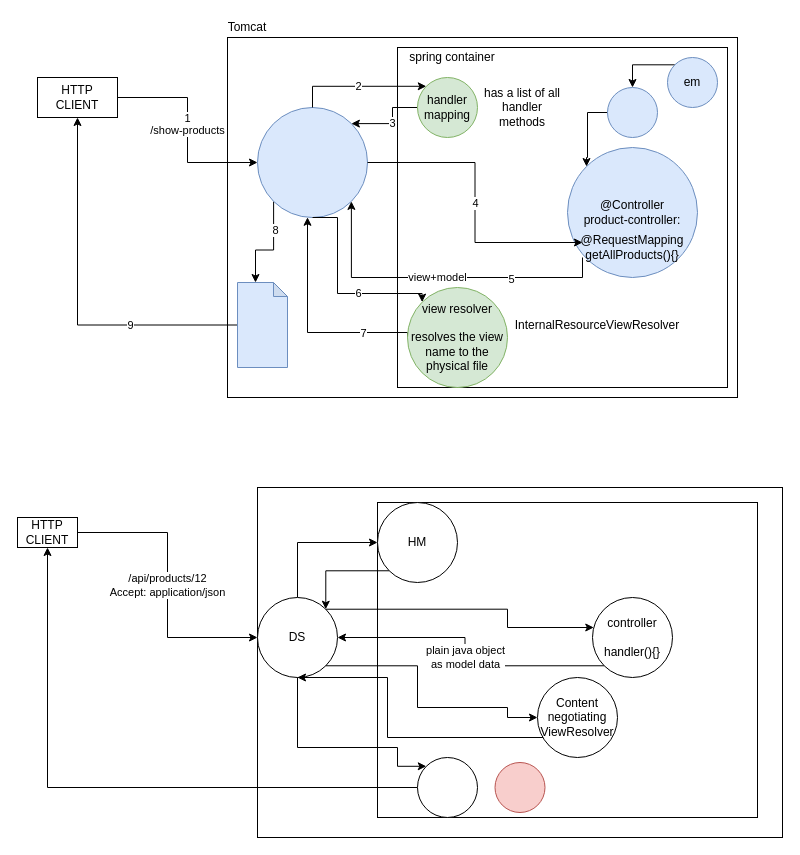
Image size: 800x855. Some labels were removed from this diagram. The centre of each missing label's shape, as x and y in pixels:
dao: (632,112)
front-controller DispatcherServlet /: (312,162)
JACKSON: (447,787)
JAXB: (519,787)
JSP (view): (262,325)
